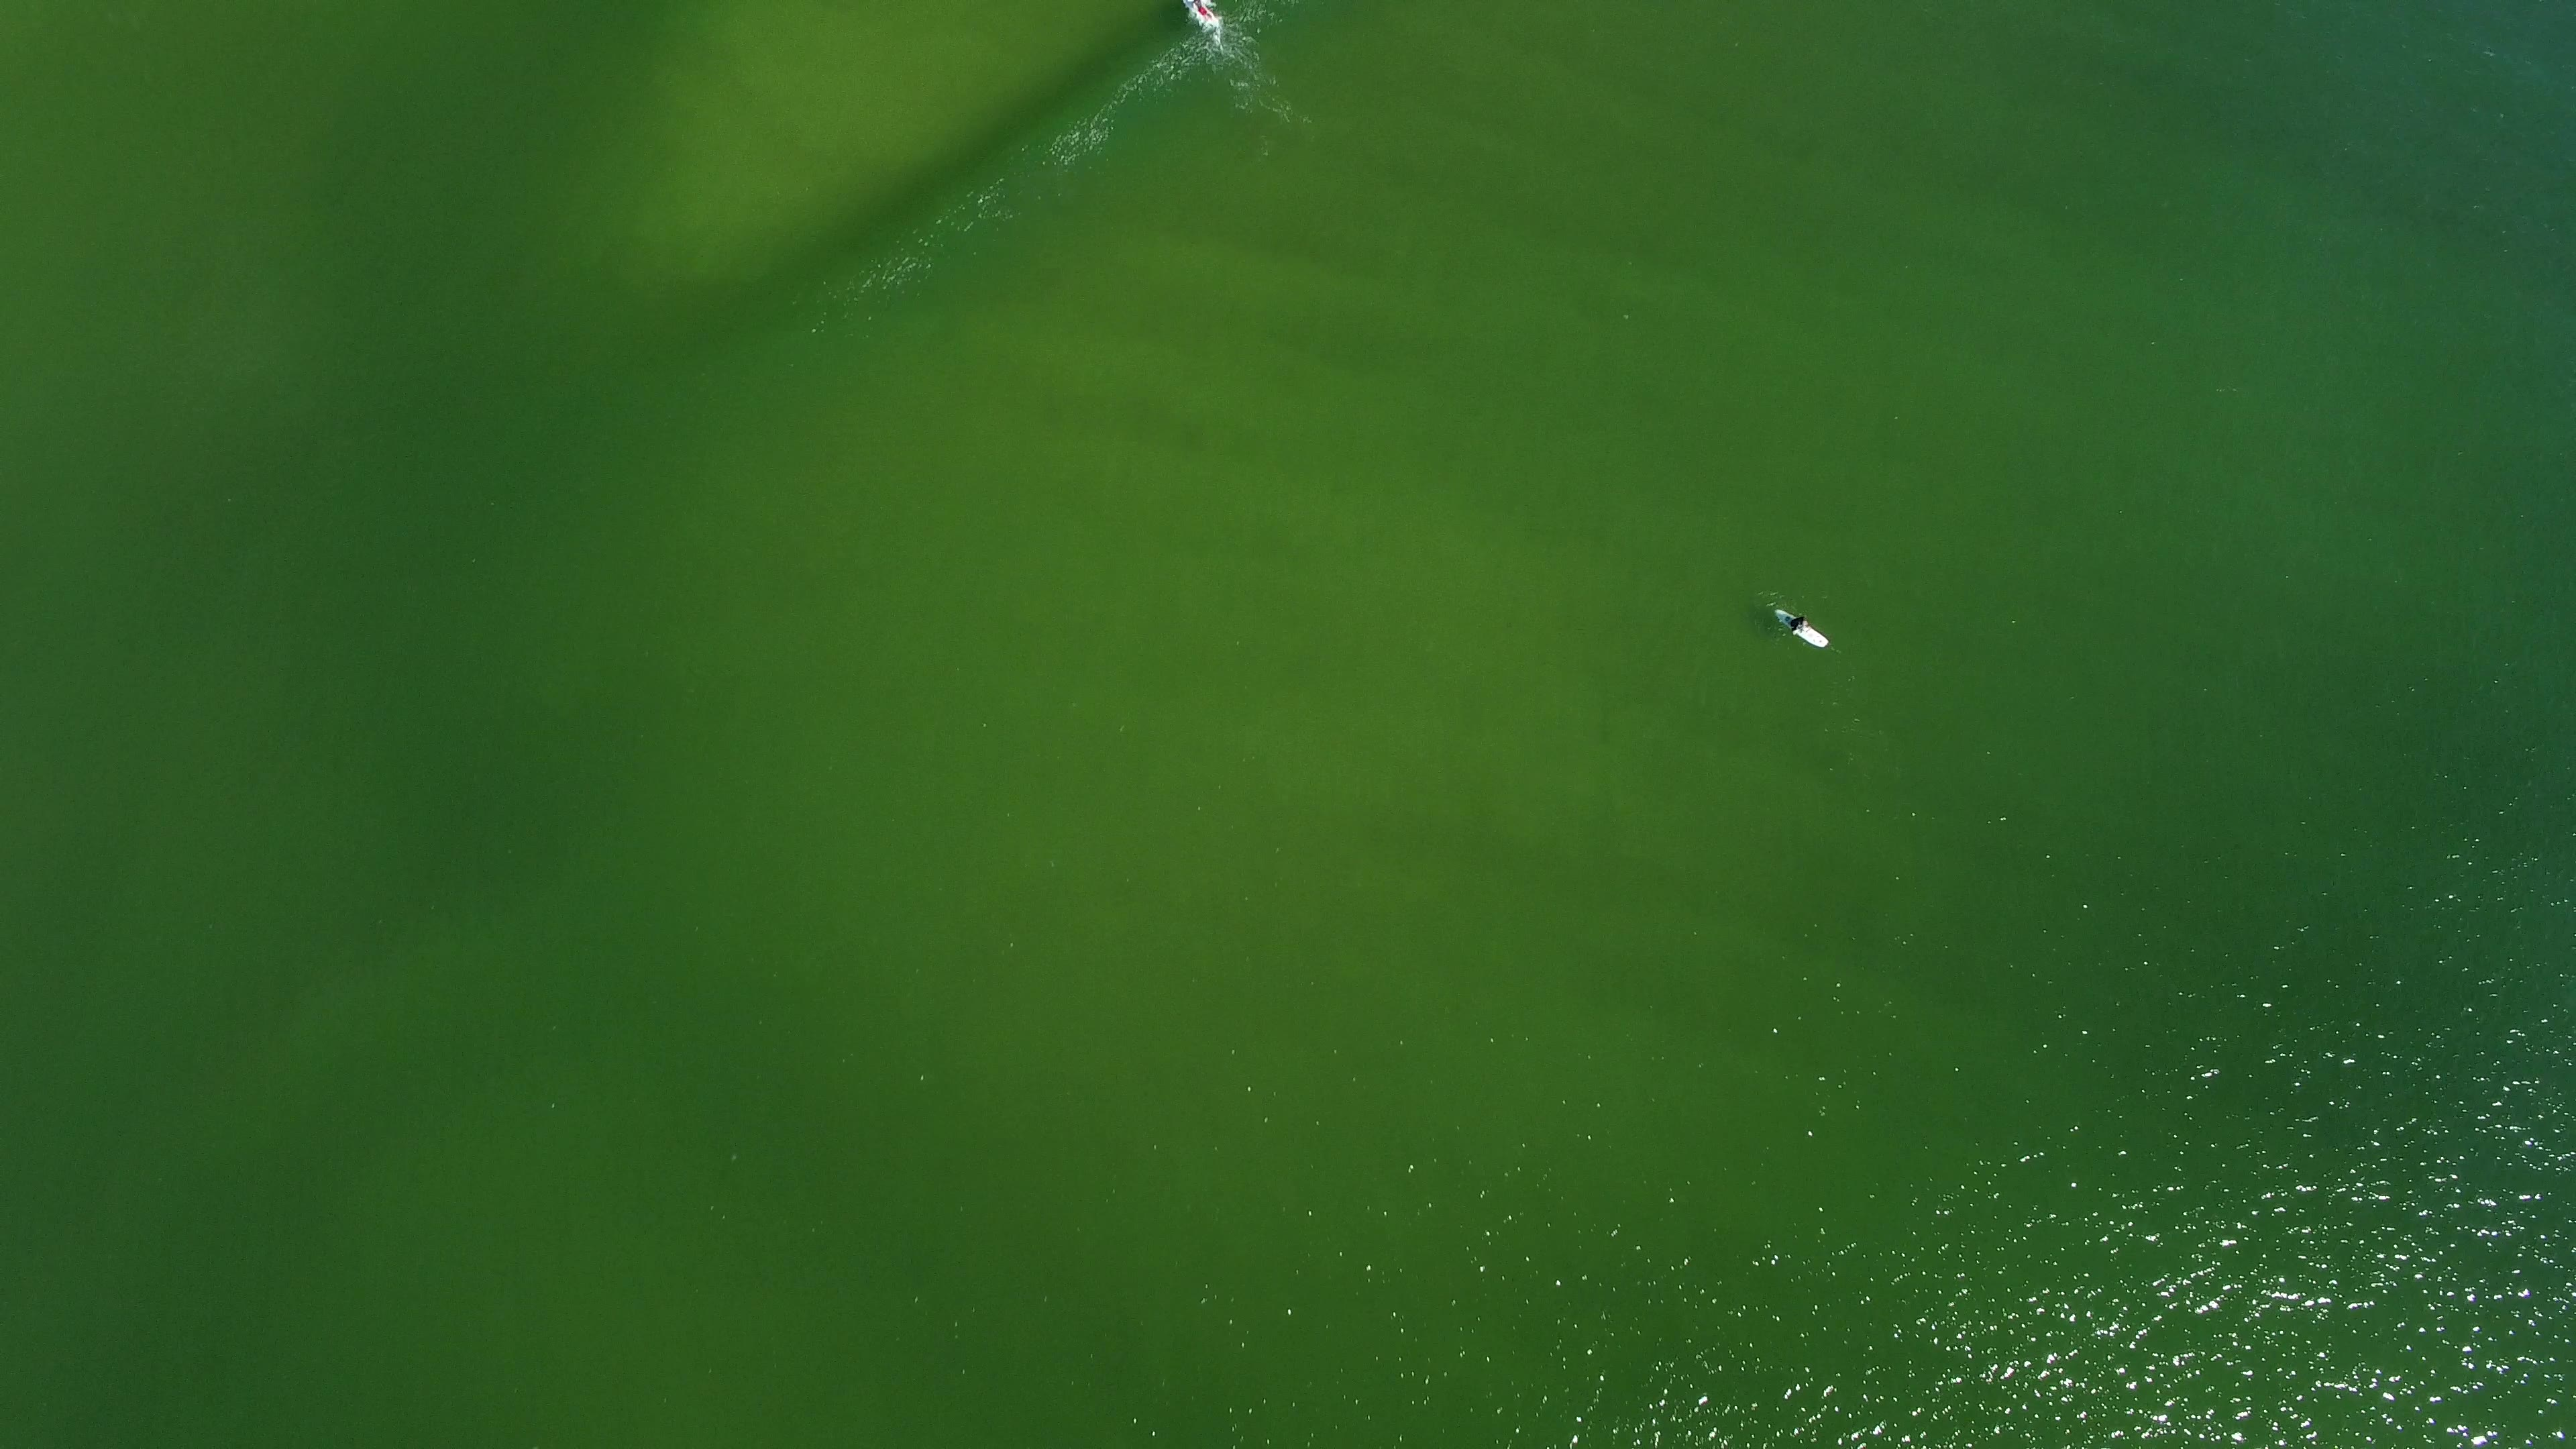surfer: (1760, 602, 1836, 653)
